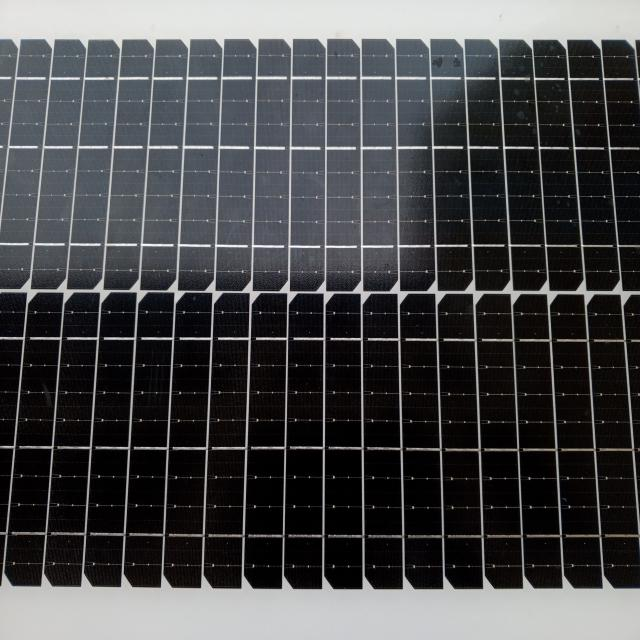Clean: (0, 33, 638, 590)
